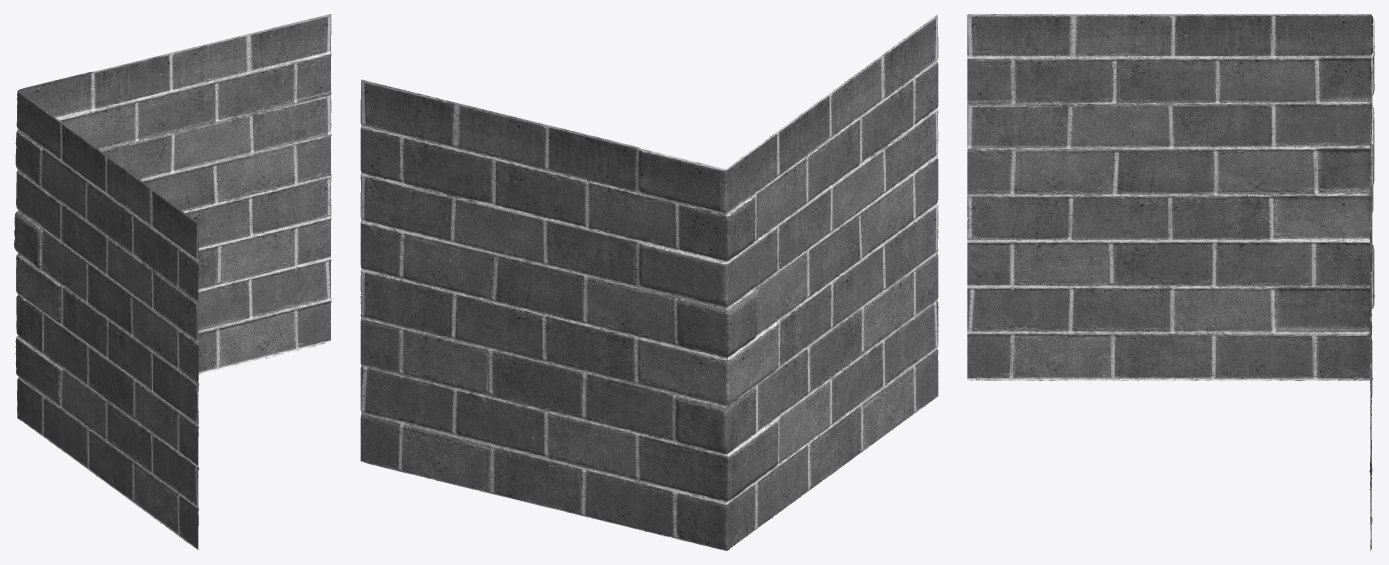
File: SM_Sewer_Wall_Cinder_01b.fbx
3 views of the same model, side by side, from view 1: azimuth 30°, elevation 25°; view 2: azimuth 150°, elevation 25°; view 3: azimuth 270°, elevation 25° (orthographic). The views are drawn at different scales.
Visible parts, largest first — view 1: SM_Sewer_Wall_Cinder_01b_LOD0; view 2: SM_Sewer_Wall_Cinder_01b_LOD0; view 3: SM_Sewer_Wall_Cinder_01b_LOD0.
Boxes of the visible parts, box(x1,y1,x2,y2) form: SM_Sewer_Wall_Cinder_01b_LOD0: box(14, 14, 331, 550); SM_Sewer_Wall_Cinder_01b_LOD0: box(360, 14, 938, 550); SM_Sewer_Wall_Cinder_01b_LOD0: box(967, 14, 1374, 550).
Size of the model in its own units: 202 by 202 by 200.
